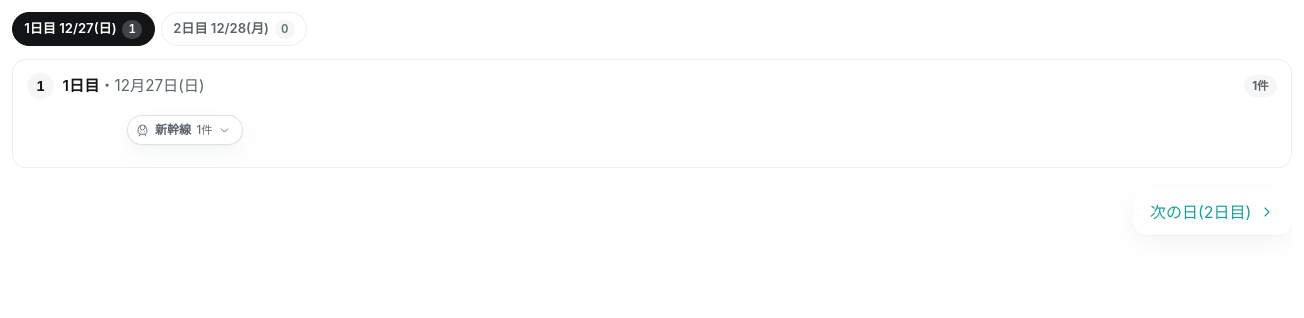
Test: 移動の予定の移動手段 › 移動の予定は、選んだ移動手段を札に出す。開けば1件ずつの行にも出る
Expected: the text "新幹線" is shown, [155,121,191,139]
Click the button "新幹線 1件" at (185,130), box [127,115,243,145]
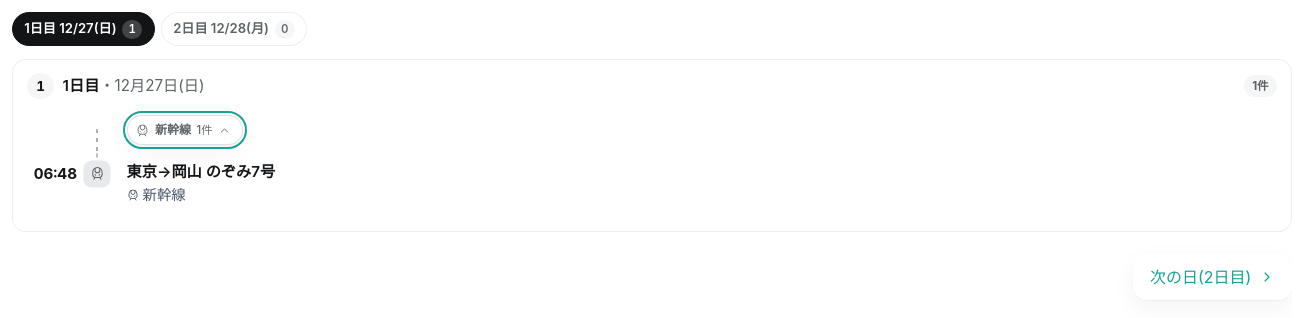
Expected: the text "新幹線" is shown, [127,185,186,206]
